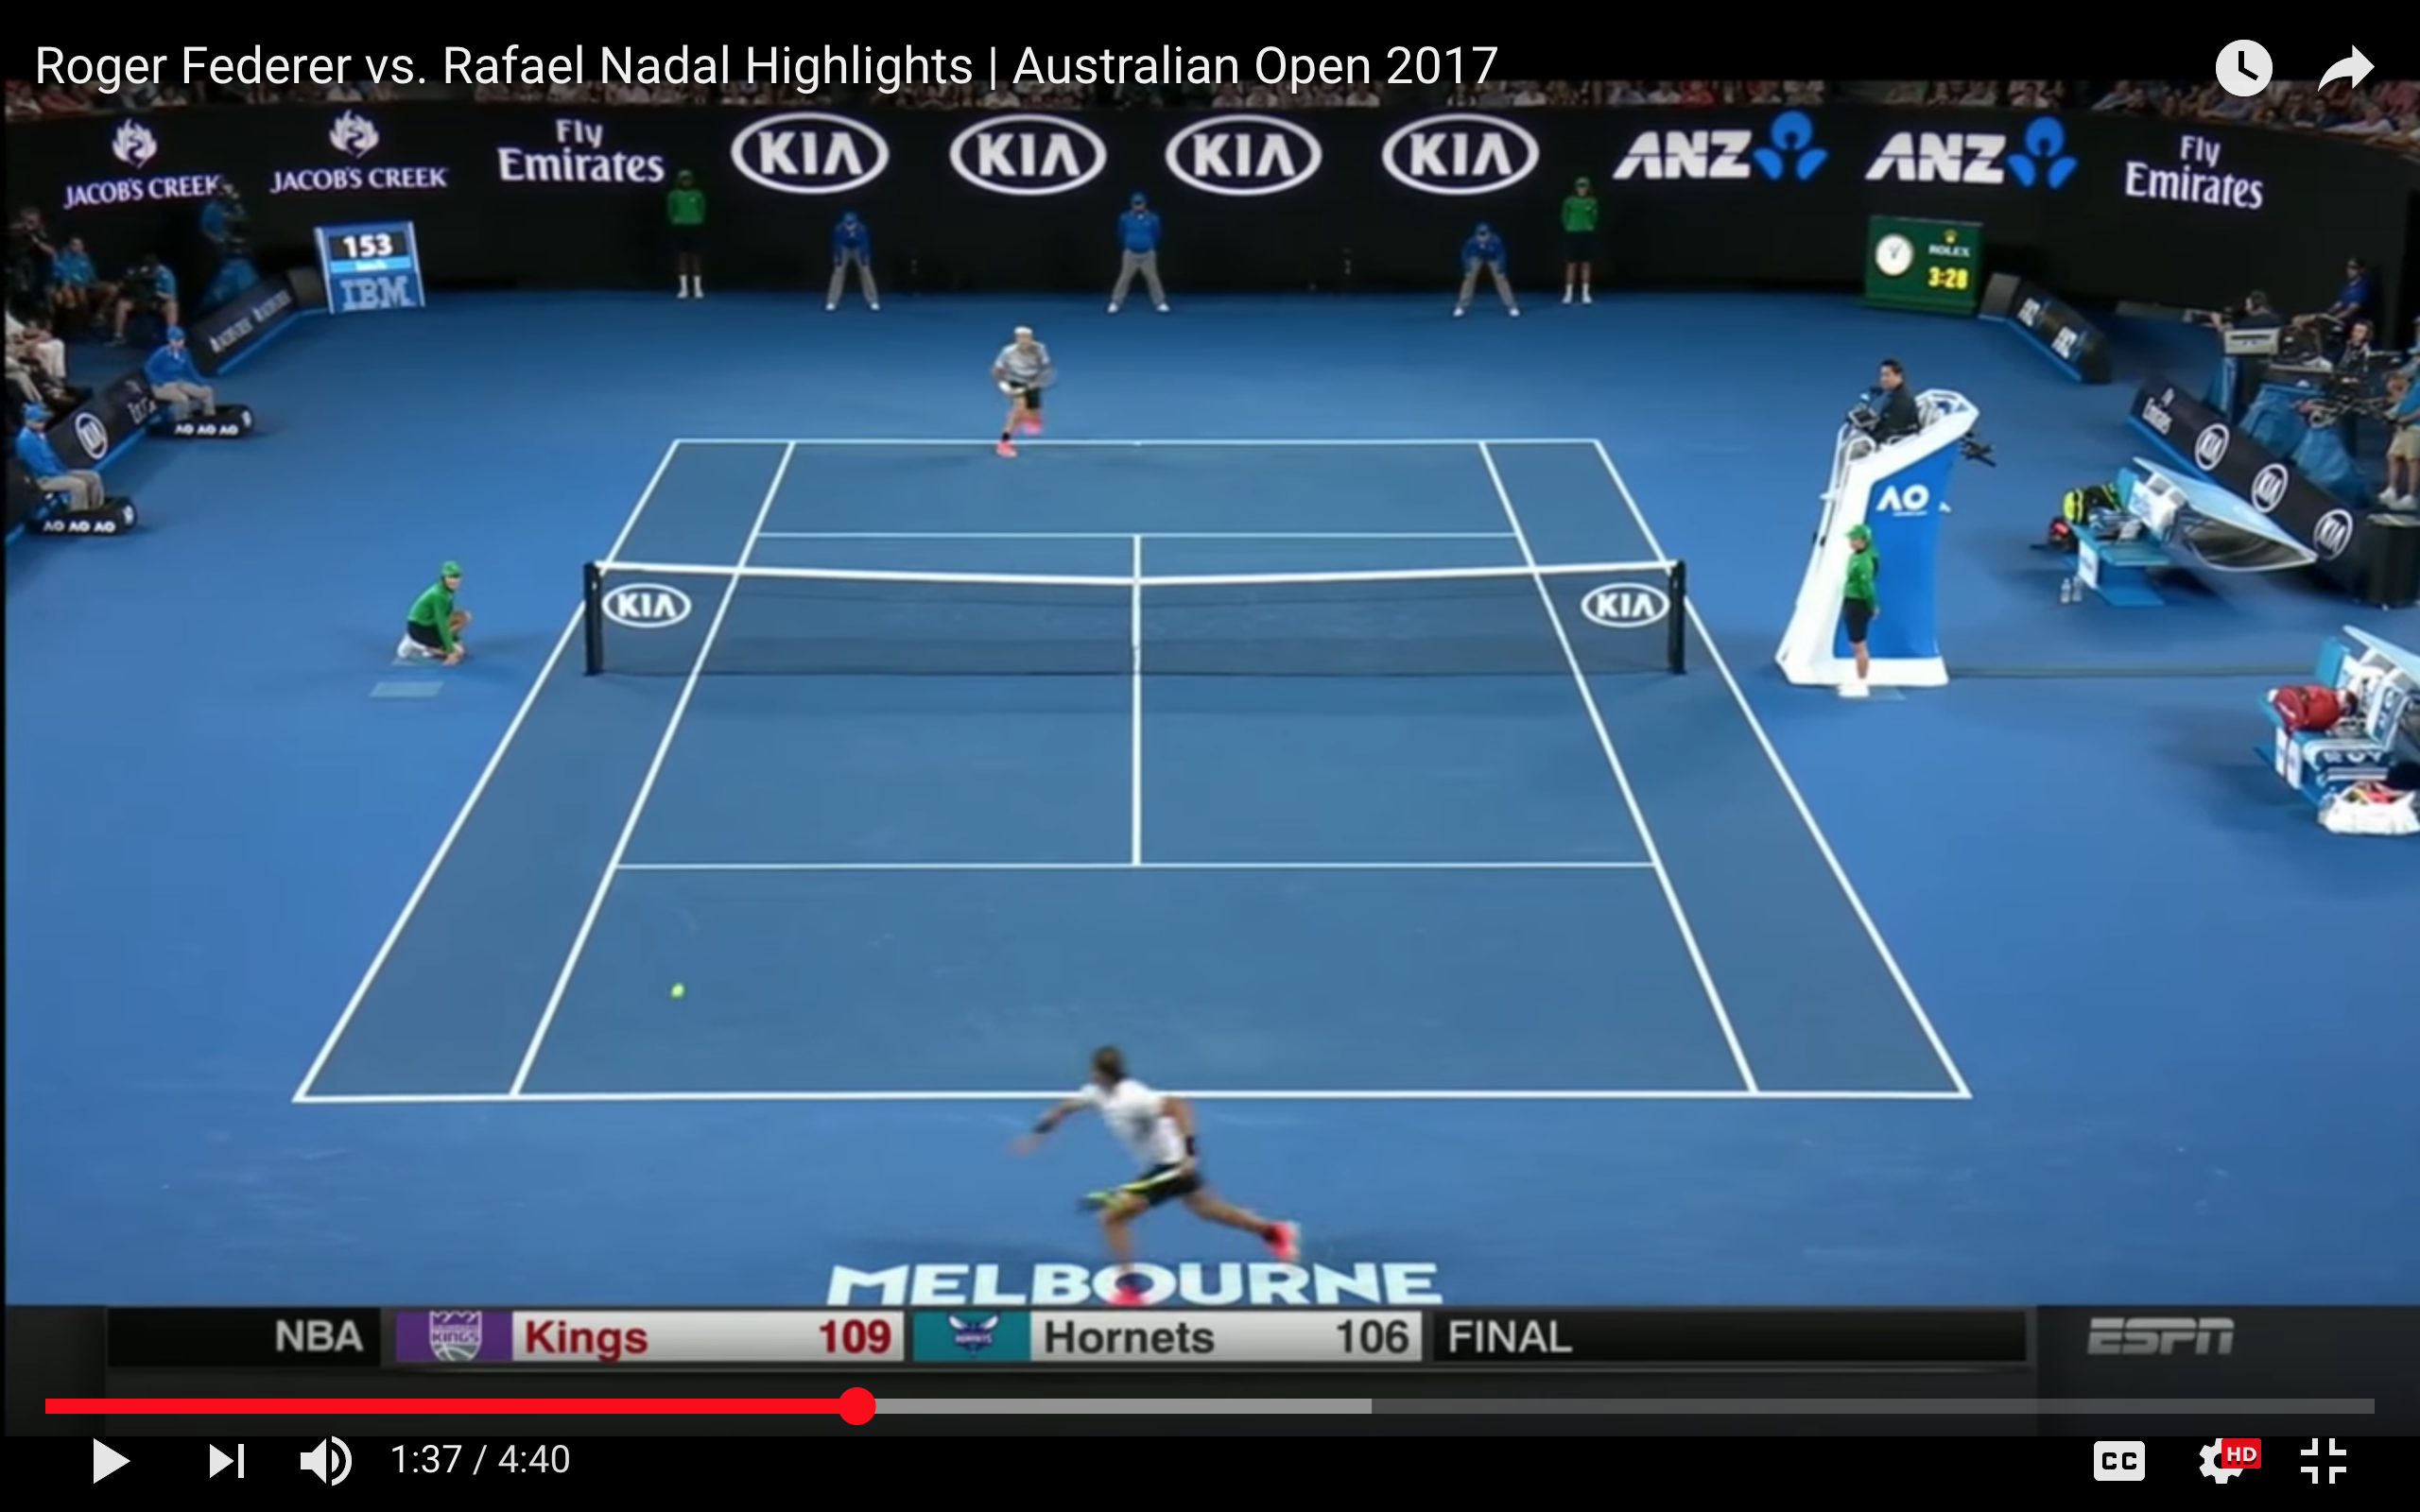tennis ball: (665, 980, 695, 1004)
tennis player: (985, 1049, 1307, 1308), (980, 326, 1063, 458)
